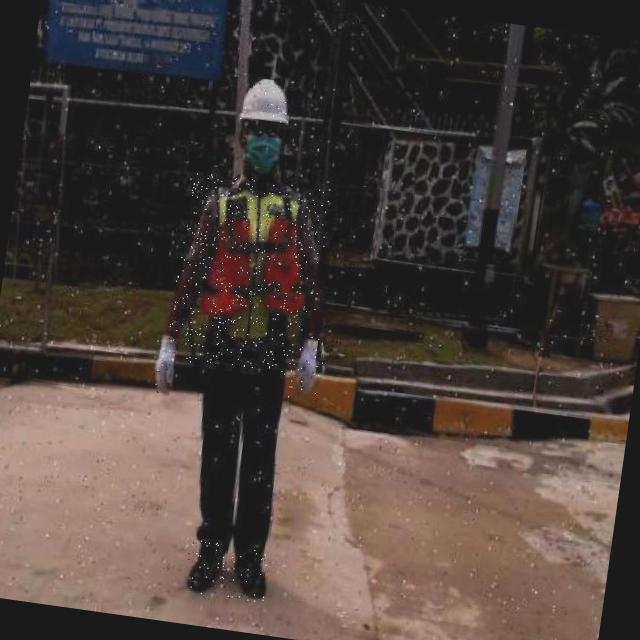boots: (226, 547, 274, 603), (182, 540, 228, 598)
gloves: (144, 324, 192, 403), (294, 324, 334, 394)
helmet: (234, 76, 292, 129)
vest: (165, 170, 332, 379)
